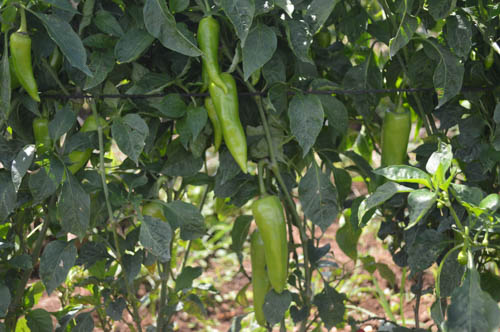ChiliPepper: (209, 75, 249, 172), (253, 198, 289, 292), (68, 115, 106, 176), (10, 35, 44, 100), (246, 234, 269, 322), (199, 18, 225, 93), (380, 112, 408, 167), (198, 98, 224, 146), (33, 118, 50, 151)
